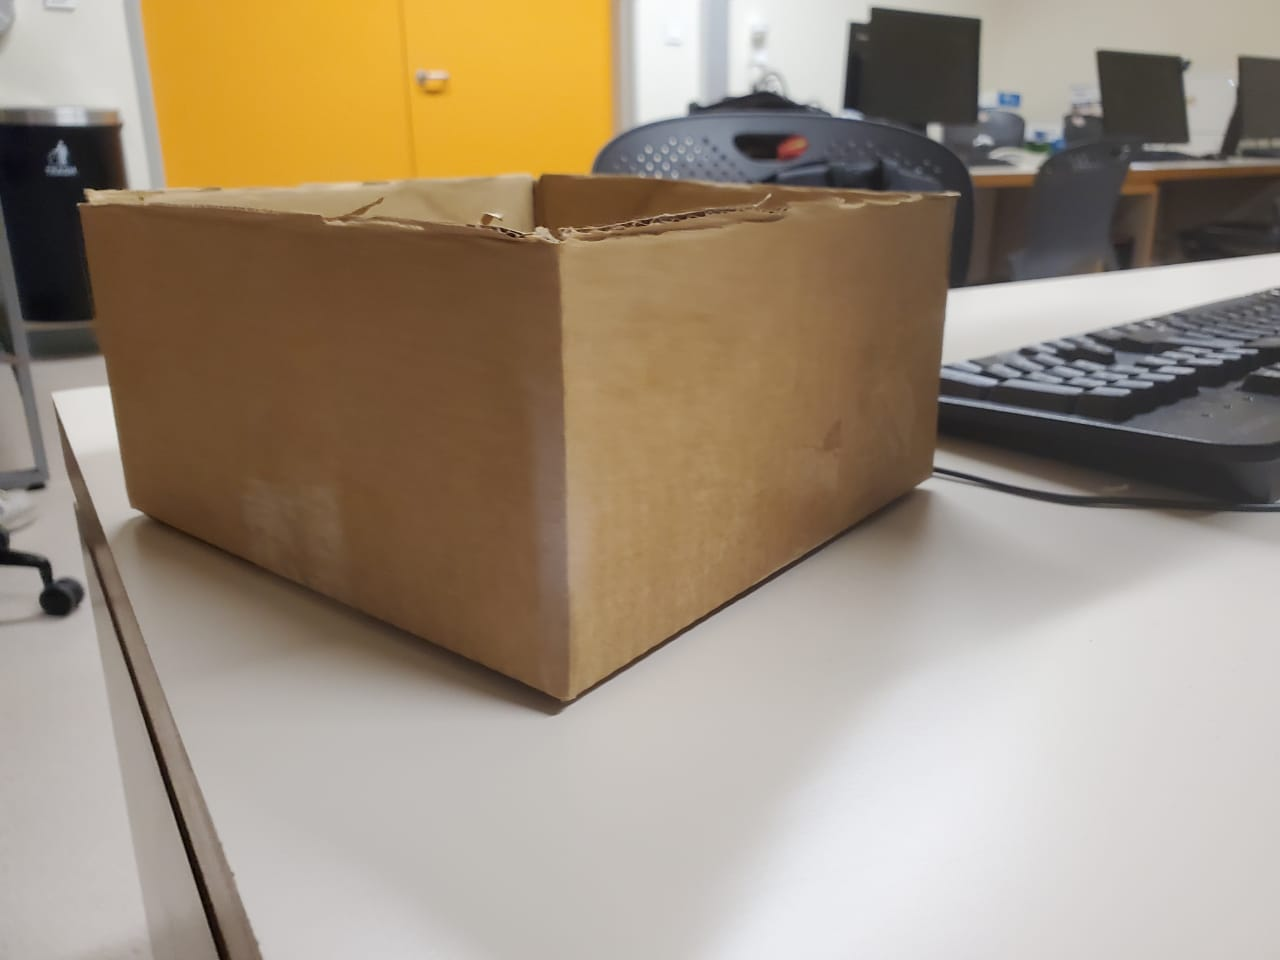CBox: (72, 172, 1016, 719)
